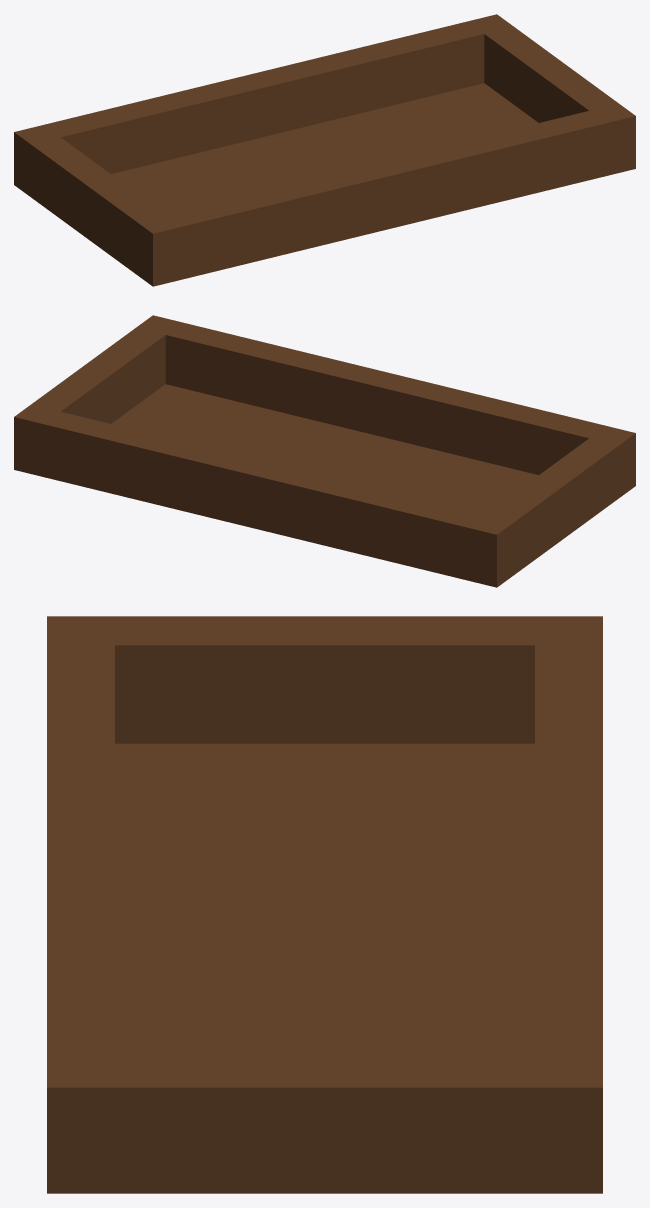
The model's file is Wood_Box.fbx.
3 renders of one model, top to bottom at view 1: azimuth 30°, elevation 25°; view 2: azimuth 150°, elevation 25°; view 3: azimuth 270°, elevation 25°, orthographic. The views are drawn at different scales.
Visible parts, largest first — view 1: Wood_Box; view 2: Wood_Box; view 3: Wood_Box.
Part boxes in pixels (x1,y1,x2,y2): Wood_Box: [14, 14, 635, 286]; Wood_Box: [14, 315, 635, 587]; Wood_Box: [47, 616, 602, 1193].
Bounding box in the file's own units: 163 × 17.01 × 81.02.
